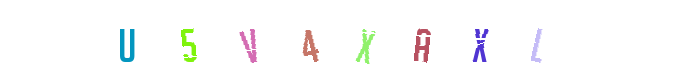4: (302, 0, 382, 80)
5: (148, 0, 228, 80)
A: (332, 0, 412, 80)
L: (440, 0, 520, 80)
U: (87, 0, 167, 80)
V: (216, 0, 296, 80)
X: (311, 0, 391, 80), (358, 0, 438, 80)
